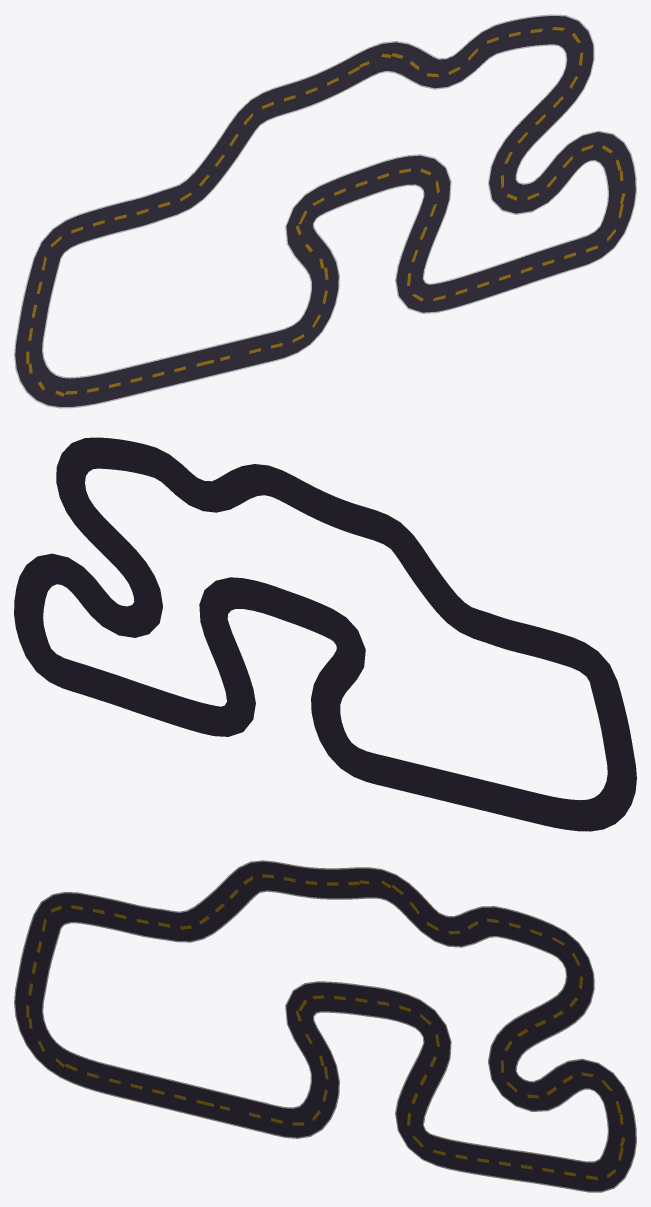
File: track.obj
3 views of the same model, one above another, from view 1: azimuth 30°, elevation 25°; view 2: azimuth 150°, elevation 25°; view 3: azimuth 330°, elevation 25° (orthographic).
Size of the model in its own units: 19.41 by 8.72 by 0.002.
